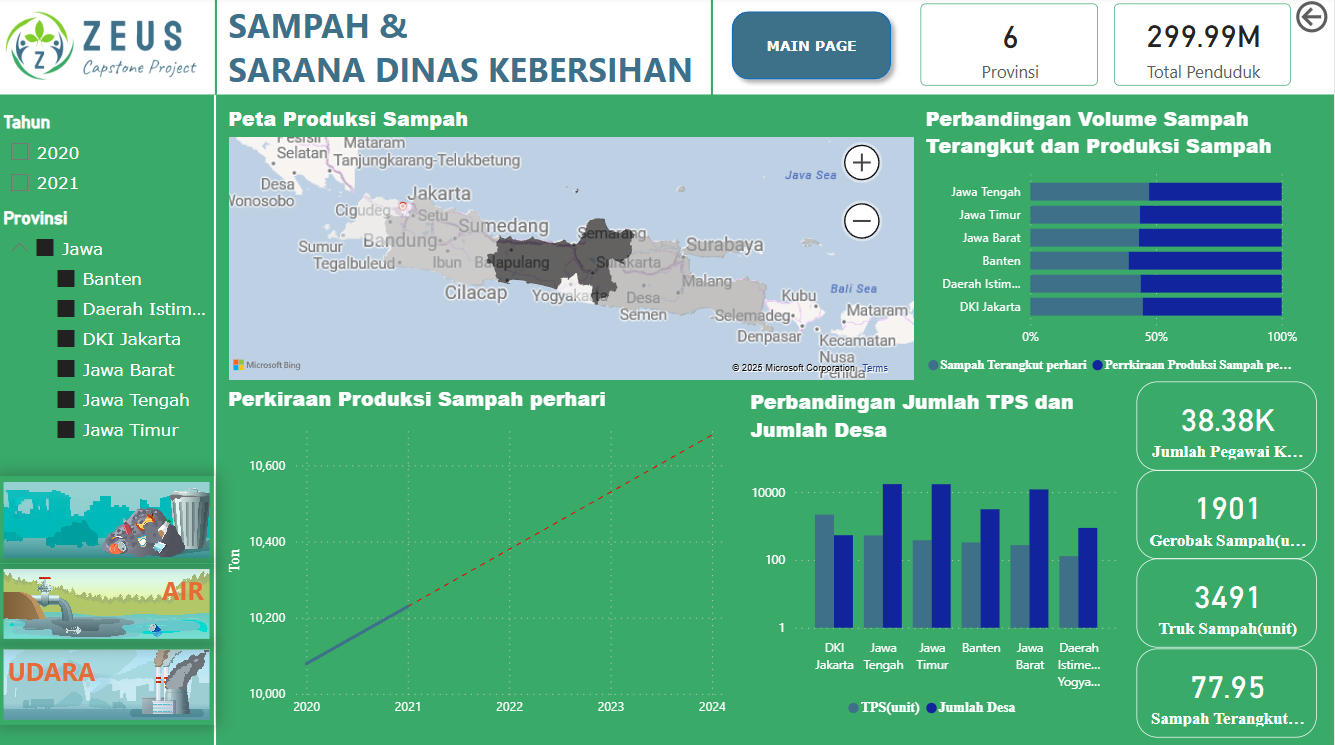

The page's visual inventory and layout, read from the dashboard file:
{"tool":"powerbi","page":{"name":"SAMPAH","canvas":[1280,720],"ordinal":2},"visuals":[{"type":"card","fields":{"Values":["Sum(Table.Pegawai)"]},"box":[1090.7,368.7,172.7,85.3],"z":0},{"type":"shape","box":[174.1,94.3,68.1,625.4],"z":1000},{"type":"shape","box":[0,0,1280,94.3],"z":2000},{"type":"filledMap","title":"Peta Produksi Sampah","fields":{"Category":["Table.Provinsi"]},"box":[215.9,103.1,667.2,269.4],"z":3000},{"type":"slicer","title":"Tahun","fields":{"Values":["Table.Tahun"]},"box":[0,110.9,208.1,90.5],"z":4000},{"type":"image","box":[0,0,196.5,94.3],"z":5000},{"type":"shape","box":[52.5,0,311.2,94.3],"z":6000},{"type":"actionButton","box":[1238.2,0,41.8,39.9],"z":7000},{"type":"textbox","box":[215.9,0,478.3,103],"z":8000},{"type":"card","fields":{"Values":["Count(Table.Provinsi)"]},"box":[883.2,6.8,170.2,78.8],"z":9000},{"type":"slicer","title":"Provinsi","fields":{"Values":["Table.Pulau","Table.Provinsi"]},"box":[0,203.3,208.1,234.4],"z":10000},{"type":"card","fields":{"Values":["Table.Total Penduduk"]},"box":[1068.5,6.6,169.4,78.6],"z":11000},{"type":"shape","box":[652.2,0,63.1,95.2],"z":12000},{"type":"image","box":[0,621.2,207.8,77.5],"z":13000},{"type":"image","box":[0,543.7,207.8,77.5],"z":14000},{"type":"group","id":"g1","title":"Group 1","box":[0,459.8,207.8,84],"z":15000},{"type":"image","title":"SAMPAH","box":[0,459.8,207.8,84],"z":16000,"group":"g1"},{"type":"textbox","box":[141,546.9,61.4,49.5],"z":16000},{"type":"textbox","box":[4.3,625.5,116.3,49.5],"z":17000},{"type":"shape","box":[694.3,5.5,170.5,83],"z":18000},{"type":"card","fields":{"Values":["Sum(Table.Truk Sampah(unit))"]},"box":[1090.7,539.2,172.7,85.3],"z":19000},{"type":"card","fields":{"Values":["Sum(Table.Gerobak Sampah(unit))"]},"box":[1090.7,454,172.7,85.3],"z":20000},{"type":"card","fields":{"Values":["Avg(Table.Persentase Sampah Terangkut(%))"]},"box":[1090.7,625.6,172.7,85.3],"z":22000},{"type":"hundredPercentStackedBarChart","title":"Perbandingan Volume Sampah Terangkut dan Produksi Sampah","fields":{"Category":["Table.Provinsi"],"Y":["Sum(Table.Volume Sampah yang Terangkut perhari)","Sum(Table.Perkiraan Produksi Sampah perhari)"]},"box":[883.6,103,366.5,269.1],"z":23000},{"type":"lineChart","title":"Perkiraan Produksi Sampah perhari","fields":{"Y":["Sum(Table.Perkiraan Produksi Sampah perhari)"],"Category":["Table.Tahun"]},"box":[215.9,372,487.2,326.6],"z":24000},{"type":"clusteredColumnChart","title":"Perbandingan Jumlah TPS dan Jumlah Desa","fields":{"Y":["Sum(Table.TPS(unit))","Sum(Table.Jumlah Desa)"],"Category":["Table.Provinsi"]},"box":[715.3,375.4,362.1,326.6],"z":25000}]}

Visuals, with their boxes in screenshot pixels (x1, y1, x2, y2), scaled from the page's 1280x720 canvas onto the 1335x745 screenshot:
card - Sum(Table.Pegawai): (left=1138, top=382, right=1318, bottom=470)
shape: (left=182, top=98, right=253, bottom=744)
shape: (left=0, top=0, right=1334, bottom=98)
"Peta Produksi Sampah" filledMap: (left=225, top=107, right=921, bottom=385)
"Tahun" slicer: (left=0, top=115, right=217, bottom=208)
image: (left=0, top=0, right=205, bottom=98)
shape: (left=55, top=0, right=379, bottom=98)
actionButton: (left=1291, top=0, right=1334, bottom=41)
textbox: (left=225, top=0, right=724, bottom=107)
card - Count(Table.Provinsi): (left=921, top=7, right=1099, bottom=89)
"Provinsi" slicer: (left=0, top=210, right=217, bottom=453)
card - Table.Total Penduduk: (left=1114, top=7, right=1291, bottom=88)
shape: (left=680, top=0, right=746, bottom=99)
image: (left=0, top=643, right=217, bottom=723)
image: (left=0, top=563, right=217, bottom=643)
"Group 1" group: (left=0, top=476, right=217, bottom=563)
"SAMPAH" image: (left=0, top=476, right=217, bottom=563)
textbox: (left=147, top=566, right=211, bottom=617)
textbox: (left=4, top=647, right=126, bottom=698)
shape: (left=724, top=6, right=902, bottom=92)
card - Sum(Table.Truk Sampah(unit)): (left=1138, top=558, right=1318, bottom=646)
card - Sum(Table.Gerobak Sampah(unit)): (left=1138, top=470, right=1318, bottom=558)
card - Avg(Table.Persentase Sampah Terangkut(%)): (left=1138, top=647, right=1318, bottom=736)
"Perbandingan Volume Sampah Terangkut dan Produksi Sampah" hundredPercentStackedBarChart: (left=922, top=107, right=1304, bottom=385)
"Perkiraan Produksi Sampah perhari" lineChart: (left=225, top=385, right=733, bottom=723)
"Perbandingan Jumlah TPS dan Jumlah Desa" clusteredColumnChart: (left=746, top=388, right=1124, bottom=726)
